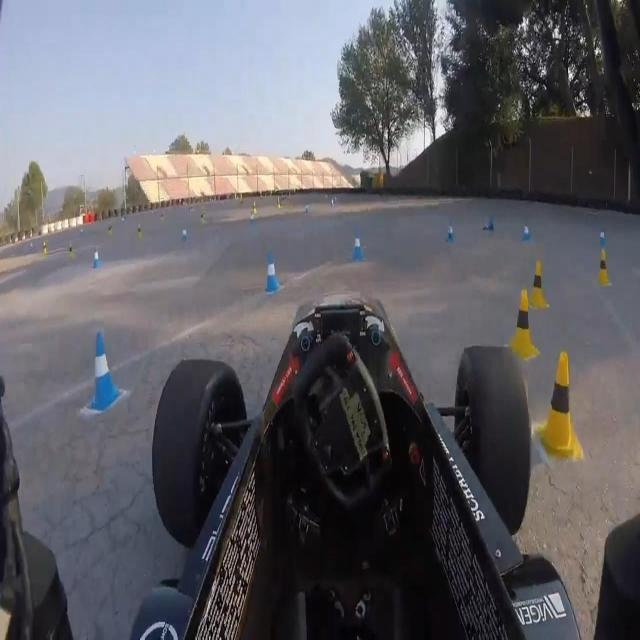blue_cone: (90, 330, 117, 410), (266, 252, 277, 295), (598, 221, 608, 259), (352, 228, 362, 262), (180, 220, 189, 249), (522, 216, 531, 243), (92, 244, 101, 270), (446, 215, 453, 243)
yellow_cone: (541, 352, 576, 456), (511, 289, 533, 359), (530, 258, 544, 308), (596, 245, 609, 288), (67, 239, 75, 262), (136, 222, 142, 240)
